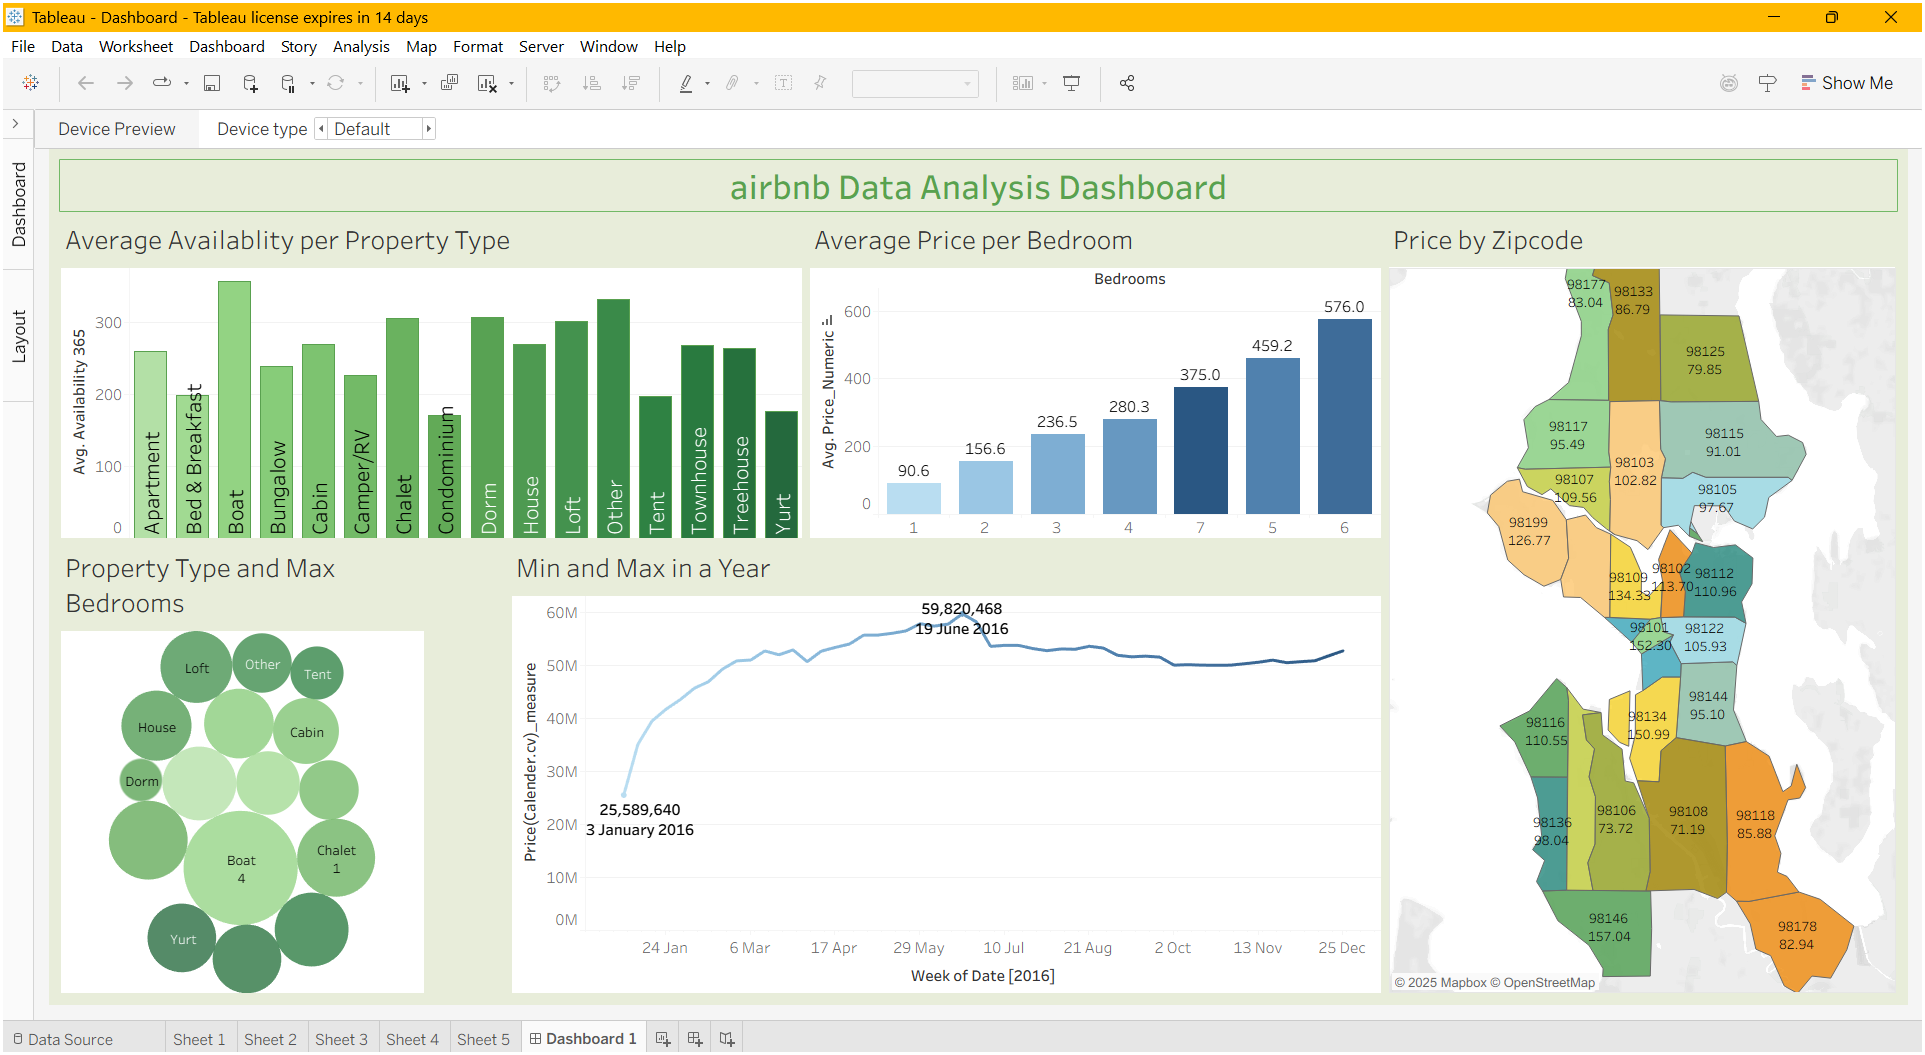

The page's visual inventory and layout, read from the dashboard file:
{"tool":"tableau","page":{"name":"Dashboard 1","canvas":[1000,1000],"units":"permille","ordinal":0},"visuals":[{"type":"text","box":[4.3,9.3,991.4,66.6]},{"type":"worksheet","title":"Sheet 1","mark":"Automatic","rows":["availability_365"],"cols":["property_type"],"box":[4.3,75.9,403.1,383.3]},{"type":"worksheet","title":"Sheet 4","mark":"Automatic","rows":["Calculation_1515179810380644352"],"cols":["bedrooms"],"box":[407.4,75.9,311.3,383.3]},{"type":"worksheet","title":"Sheet 2","mark":"Multipolygon","box":[718.7,75.9,277,914.7]},{"type":"worksheet","title":"Sheet 5","mark":"Circle","box":[4.3,459.2,242.6,531.4]},{"type":"worksheet","title":"Sheet 3","mark":"Automatic","rows":["Calculation_1515179810387632129"],"cols":["date"],"box":[246.9,459.2,471.8,531.4]}]}

Visuals, with their boxes on the dashboard's canvas, which has no fixed pixel size, in thousandths of its width and height (x1, y1, x2, y2). These are canvas units, not pixel positions in the 1925x1055 screenshot, which may show the page scaled, cropped or inside an application window:
text: [4, 9, 996, 76]
"Sheet 1" worksheet: [4, 76, 407, 459]
"Sheet 4" worksheet: [407, 76, 719, 459]
"Sheet 2" worksheet (Multipolygon marks): [719, 76, 996, 991]
"Sheet 5" worksheet (Circle marks): [4, 459, 247, 991]
"Sheet 3" worksheet: [247, 459, 719, 991]
